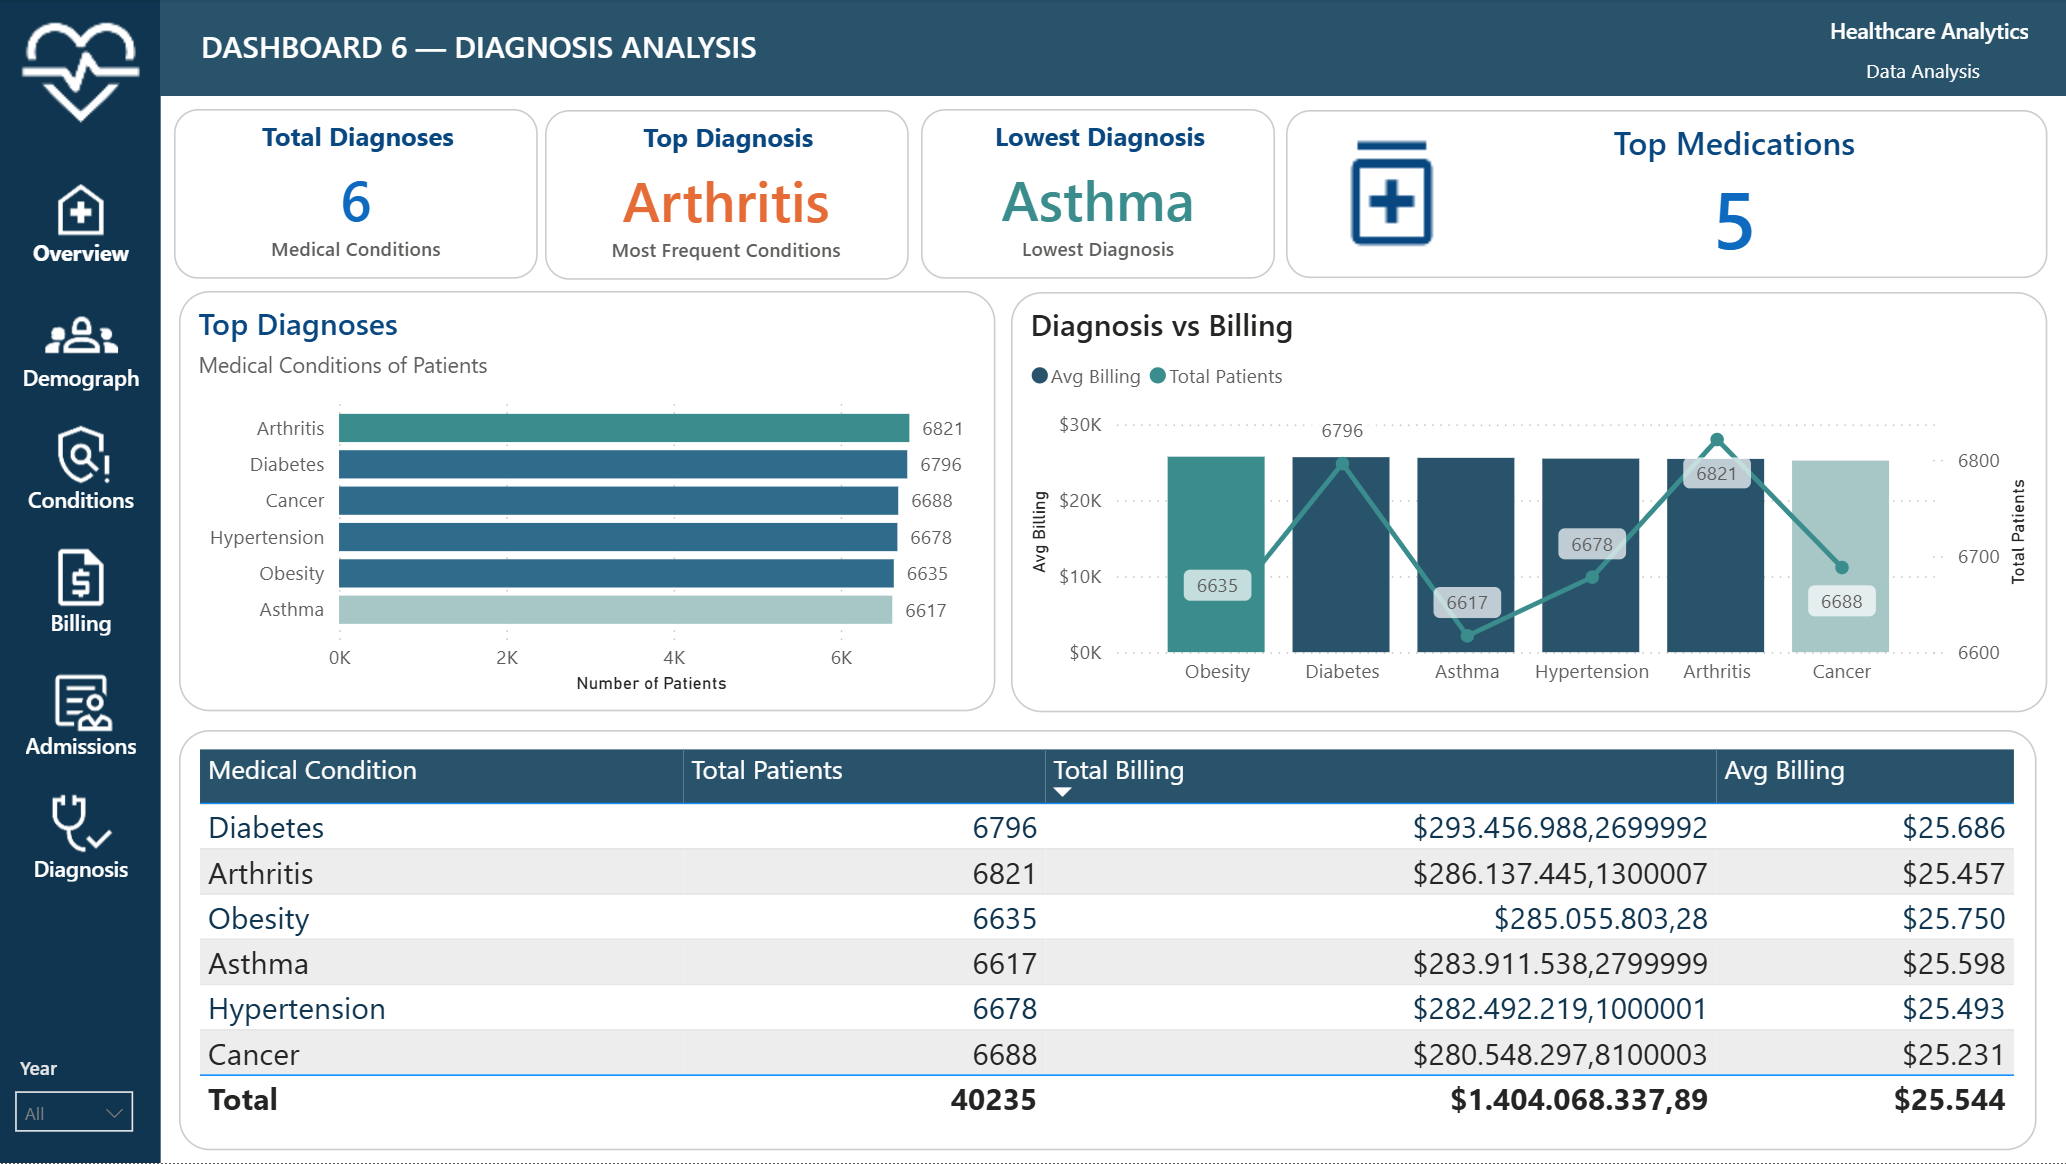

The dashboard page shown, as its layout file describes it:
{"tool":"powerbi","page":{"name":"Diagnosis","canvas":[1280,720],"ordinal":5},"visuals":[{"type":"group","id":"g1","title":"Navigation Bar","box":[0,0,100,720],"z":0},{"type":"shape","title":"Sidebar","box":[0,0,100,720],"z":1000,"group":"g1"},{"type":"shape","box":[99.9,0,1180.1,60.2],"z":1000},{"type":"actionButton","title":"NAV - Overview","box":[8.6,105,84,64],"z":1500,"group":"g1"},{"type":"textbox","title":"Left header title","box":[120,12,500.7,35],"z":2000},{"type":"actionButton","title":"NAV - Demographics","box":[8.6,181,84,64.5],"z":2000,"group":"g1"},{"type":"textbox","box":[1070.2,5.5,190.4,29.5],"z":3000},{"type":"actionButton","title":"NAV - Conditions","box":[8.6,257,84,64.5],"z":3000,"group":"g1"},{"type":"textbox","box":[1113.2,29.5,153.6,30.1],"z":4000},{"type":"actionButton","title":"NAV - Billing","box":[8.6,333,84,64.5],"z":4000,"group":"g1"},{"type":"image","box":[0.6,0,99.6,89.7],"z":5000},{"type":"actionButton","title":"NAV - Admissions","box":[8.6,409,84,64.5],"z":5000,"group":"g1"},{"type":"clusteredBarChart","title":"Top Diagnoses","fields":{"Category":["Healthcare Dataset.Medical Condition"],"Y":["Healthcare Dataset.Total Patients"]},"box":[111.3,180.6,504.7,260.4],"z":6000},{"type":"actionButton","title":"NAV - Diagnosis","box":[8.6,485,84,64.5],"z":6000,"group":"g1"},{"type":"lineClusteredColumnComboChart","title":"Diagnosis vs Billing","fields":{"Category":["Healthcare Dataset.Medical Condition"],"Y":["Healthcare Dataset.Avg Billing"],"Y2":["Healthcare Dataset.Total Patients"]},"box":[626,181.2,640.8,259.8],"z":7000},{"type":"tableEx","fields":{"Values":["Healthcare Dataset.Medical Condition","Healthcare Dataset.Total Patients","Healthcare Dataset.Total Billing","Healthcare Dataset.Avg Billing"]},"box":[111,452.4,1149.7,267.6],"z":8000},{"type":"cardVisual","title":"Total Diagnoses","fields":{"Data":["Healthcare Dataset.Total Diagnoses"]},"box":[108.1,68.2,225.3,104.7],"z":9000},{"type":"cardVisual","title":"Lowest Diagnosis","fields":{"Data":["Healthcare Dataset.Lowest Diagnosis"]},"box":[570.1,68.2,219.3,105.3],"z":10000},{"type":"cardVisual","title":"Top Diagnosis","fields":{"Data":["Healthcare Dataset.Top Diagnosis"]},"box":[337.9,68.8,224.7,104.7],"z":11000},{"type":"cardVisual","fields":{"Data":["Healthcare Dataset.Medication Count"]},"box":[796.1,68.7,470.7,103.9],"z":12000},{"type":"slicer","fields":{"Values":["Healthcare Dataset.Date of Admission.Variation.Date Hierarchy.Year"]},"box":[0,647.6,92.8,55.1],"z":13000}]}

Visuals, with their boxes in screenshot pixels (x1, y1, x2, y2), scaled from the page's 1280x720 canvas onto the 2066x1164 screenshot:
"Navigation Bar" group: 0:0:161:1163
"Sidebar" shape: 0:0:161:1163
shape: 161:0:2065:97
"NAV - Overview" actionButton: 14:170:149:273
"Left header title" textbox: 194:19:1002:76
"NAV - Demographics" actionButton: 14:293:149:397
textbox: 1727:9:2035:57
"NAV - Conditions" actionButton: 14:415:149:520
textbox: 1797:48:2045:96
"NAV - Billing" actionButton: 14:538:149:643
image: 1:0:162:145
"NAV - Admissions" actionButton: 14:661:149:765
"Top Diagnoses" clusteredBarChart: 180:292:994:713
"NAV - Diagnosis" actionButton: 14:784:149:888
"Diagnosis vs Billing" lineClusteredColumnComboChart: 1010:293:2045:713
tableEx - Healthcare Dataset.Medical Condition x Healthcare Dataset.Total Patients: 179:731:2035:1163
"Total Diagnoses" cardVisual: 174:110:538:280
"Lowest Diagnosis" cardVisual: 920:110:1274:280
"Top Diagnosis" cardVisual: 545:111:908:280
cardVisual - Healthcare Dataset.Medication Count: 1285:111:2045:279
slicer - Healthcare Dataset.Date of Admission.Variation.Date Hierarchy.Year: 0:1047:150:1136
